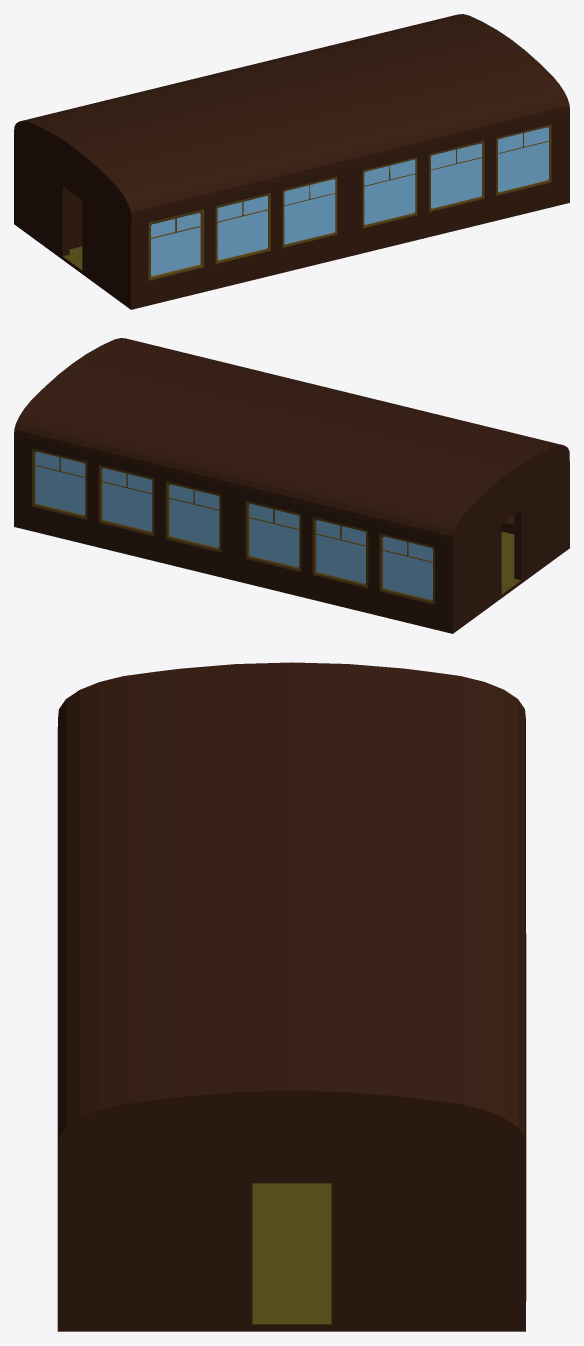
The model's file is SideRoomWagon.fbx.
The picture shows the model from 3 angles, top to bottom: view 1: azimuth 30°, elevation 25°; view 2: azimuth 150°, elevation 25°; view 3: azimuth 270°, elevation 25°; orthographic projection. The views are drawn at different scales.
Visible parts, largest first — view 1: WagonSideRoom, WindowGlass.008, WindowGlass.009, WindowGlass.011, WindowGlass.010, WindowGlass.007, WindowGlass.006, SideRoom; view 2: WagonSideRoom, WindowGlass.004, WindowGlass.005, WindowGlass.003, WindowGlass.002, WindowGlass, WindowGlass.001; view 3: WagonSideRoom.
Boxes of the visible parts, <box> form: WagonSideRoom: <box>14,14,569,309</box>; WindowGlass.008: <box>284,179,335,244</box>; WindowGlass.009: <box>364,159,415,224</box>; WindowGlass.011: <box>498,127,548,192</box>; WindowGlass.010: <box>431,143,481,208</box>; WindowGlass.007: <box>217,196,267,260</box>; WindowGlass.006: <box>151,212,200,275</box>; SideRoom: <box>69,191,82,249</box>; WagonSideRoom: <box>14,338,569,633</box>; WindowGlass.004: <box>102,468,152,531</box>; WindowGlass.005: <box>35,451,85,515</box>; WindowGlass.003: <box>169,484,219,547</box>; WindowGlass.002: <box>249,504,299,567</box>; WindowGlass: <box>383,536,432,599</box>; WindowGlass.001: <box>316,520,365,583</box>; WagonSideRoom: <box>57,662,526,1331</box>.
Bounding box in the file's own units: 2804 × 1591 × 6066.
